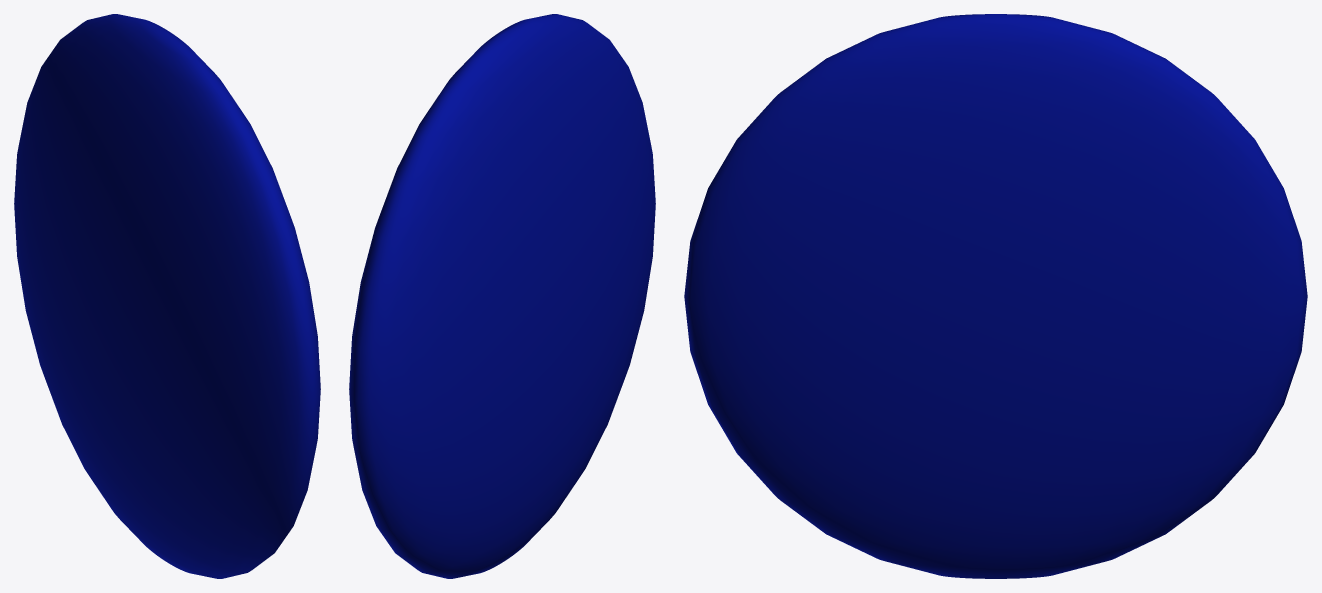
File: love2.fbx
The picture shows the model from 3 angles, left to right: view 1: azimuth 30°, elevation 25°; view 2: azimuth 150°, elevation 25°; view 3: azimuth 270°, elevation 25°; orthographic projection. The views are drawn at different scales.
Parts seen in each view (by area): view 1: Sphere001; view 2: Sphere001; view 3: Sphere001.
Boxes of the visible parts, x1,y1,x2,y2 form: Sphere001: (14, 14, 320, 578); Sphere001: (349, 14, 655, 578); Sphere001: (684, 14, 1307, 578).
Size of the model in its own units: 3.78 by 18.18 by 18.18.
